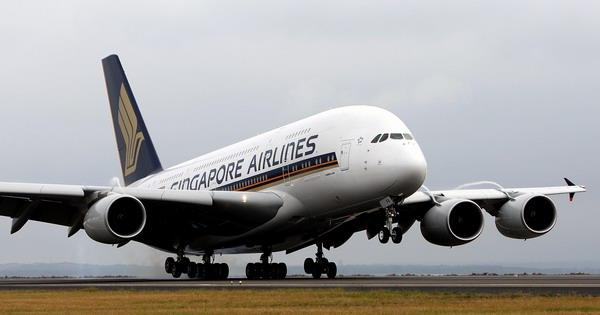airplane: (3, 53, 589, 282)
